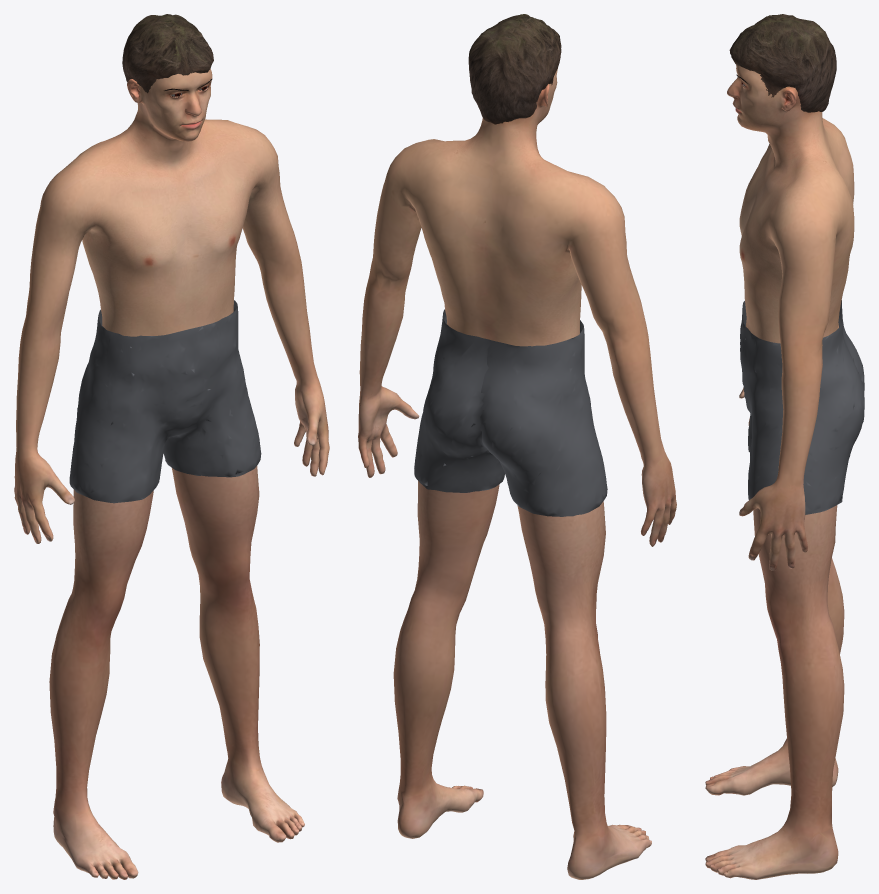
The model's file is mannequin_m.glb.
The picture shows the model from 3 angles, left to right: view 1: azimuth 30°, elevation 25°; view 2: azimuth 150°, elevation 25°; view 3: azimuth 270°, elevation 25°; orthographic projection.
Visible parts, largest first — view 1: Human, base_layer_trim, Human.short02; view 2: Human, base_layer_trim, Human.short02; view 3: Human, base_layer_trim, Human.short02.
Part boxes in pixels (<box>): Human: <box>14,69,329,879</box>; base_layer_trim: <box>69,300,261,503</box>; Human.short02: <box>122,14,213,93</box>; Human: <box>358,68,676,879</box>; base_layer_trim: <box>414,309,607,516</box>; Human.short02: <box>468,14,561,124</box>; Human: <box>705,65,854,879</box>; base_layer_trim: <box>740,300,864,514</box>; Human.short02: <box>729,14,836,112</box>.
Bounding box in the file's own units: 0.7045 × 1.82 × 0.3235.
Materials: 6 (5 with a texture image).
